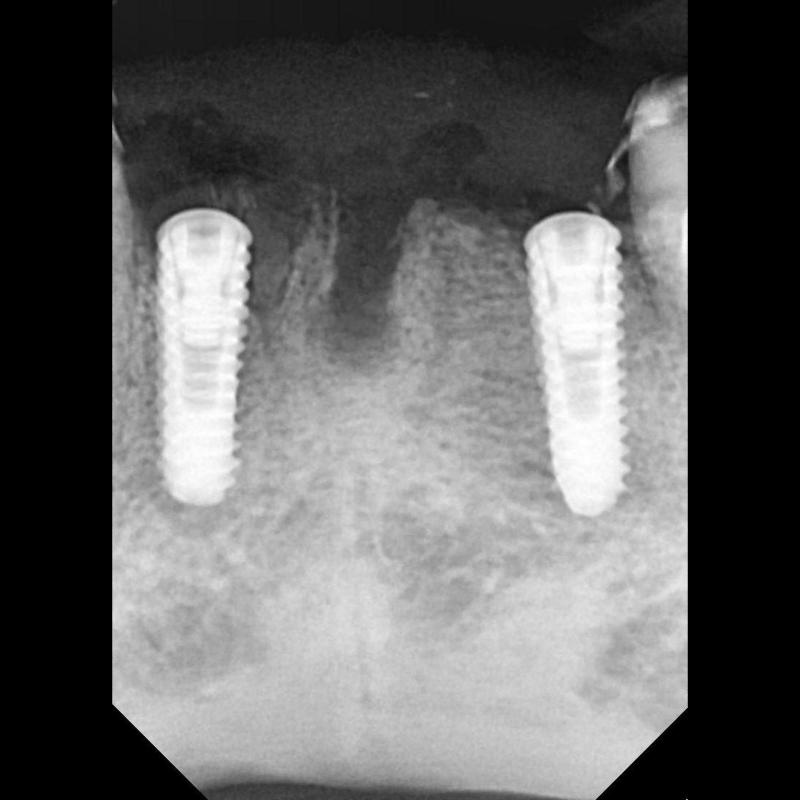osstem: (516, 208, 646, 522), (144, 198, 262, 518)
